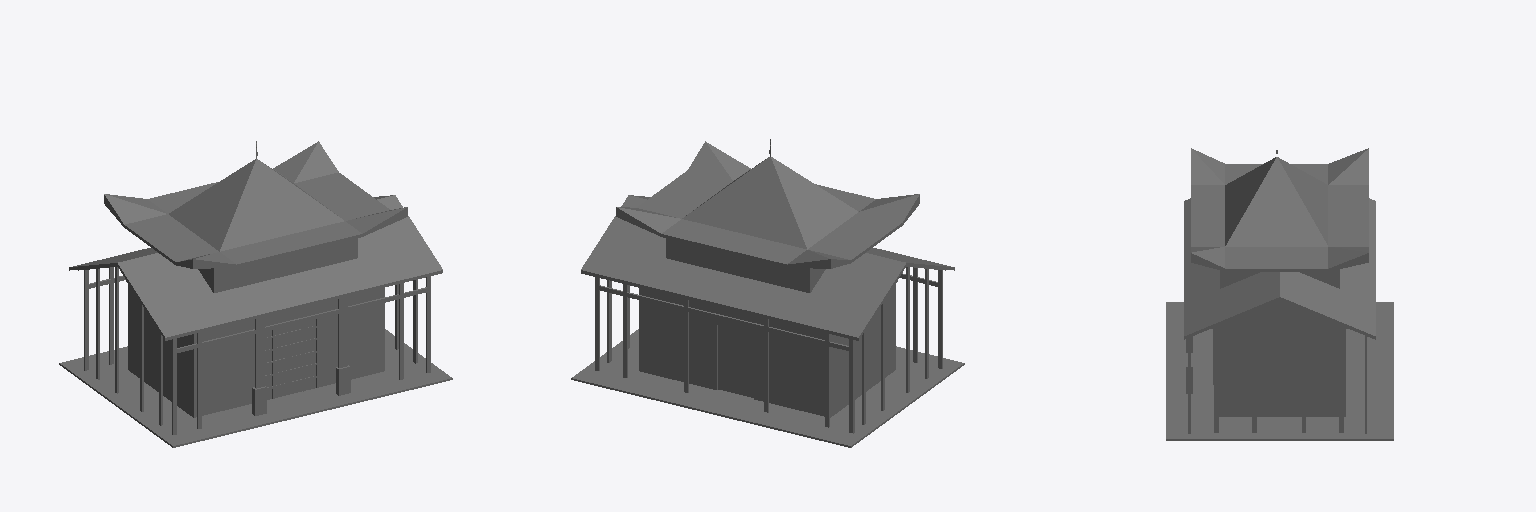
The model's file is Temple.obj.
3 views of the same model, side by side, from view 1: azimuth 30°, elevation 25°; view 2: azimuth 150°, elevation 25°; view 3: azimuth 270°, elevation 25° (orthographic).
Parts seen in each view (by area): view 1: Temple; view 2: Temple; view 3: Temple.
Boxes of the visible parts, <box> form: Temple: <box>59,141,452,447</box>; Temple: <box>571,139,964,447</box>; Temple: <box>1166,148,1393,440</box>.
Bounding box in the file's own units: 16.64 × 13.25 × 11.73.